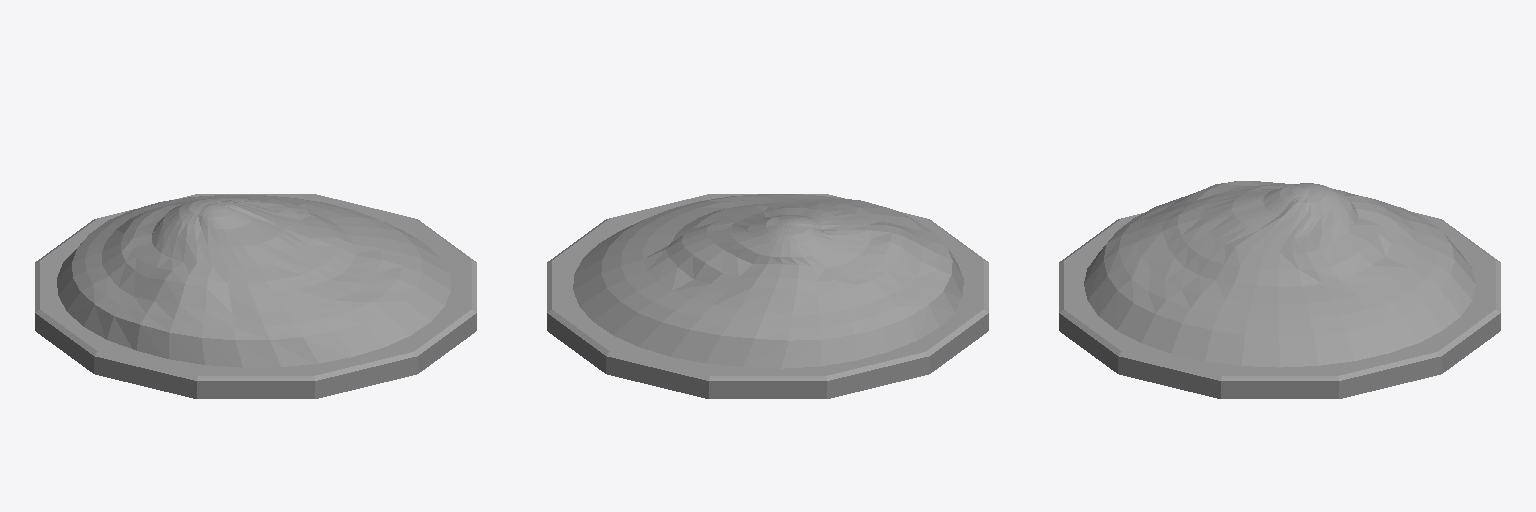
3 views of the same model, side by side, from view 1: azimuth 30°, elevation 25°; view 2: azimuth 150°, elevation 25°; view 3: azimuth 270°, elevation 25° (orthographic).
Visible parts, largest first — view 1: platform_ground.001_Circle.147; view 2: platform_ground.001_Circle.147; view 3: platform_ground.001_Circle.147.
Part boxes in pixels (left/top/right/bottom): platform_ground.001_Circle.147: left=35, top=194, right=476, bottom=398; platform_ground.001_Circle.147: left=547, top=194, right=988, bottom=398; platform_ground.001_Circle.147: left=1059, top=181, right=1500, bottom=398.
Size of the model in its own units: 6.64 by 1.65 by 6.64.